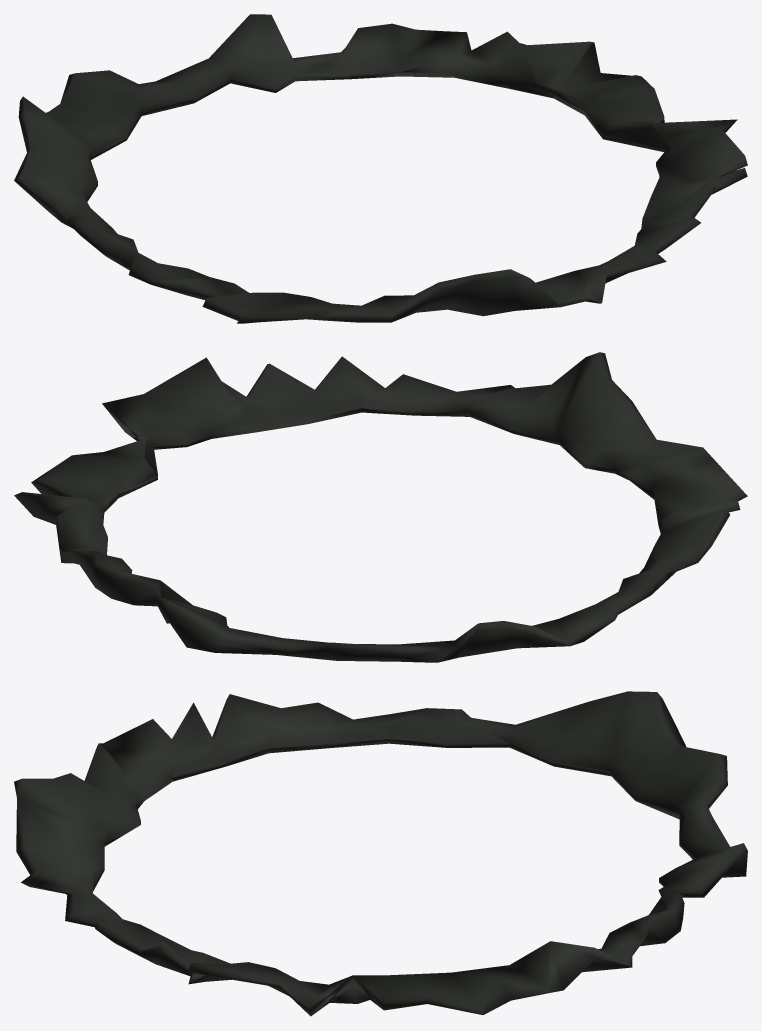
The model's file is rubbleFloor.obj.
3 renders of one model, top to bottom at view 1: azimuth 30°, elevation 25°; view 2: azimuth 150°, elevation 25°; view 3: azimuth 270°, elevation 25°, orthographic. The views are drawn at different scales.
Parts seen in each view (by area): view 1: 球; view 2: 球; view 3: 球.
Boxes of the visible parts, bbox=[...] form: 球: bbox=[14, 14, 747, 323]; 球: bbox=[14, 352, 747, 662]; 球: bbox=[14, 691, 747, 1016].
Size of the model in its own units: 2.26 by 0.2333 by 2.28.
Materials: 1 (1 with a texture image).
